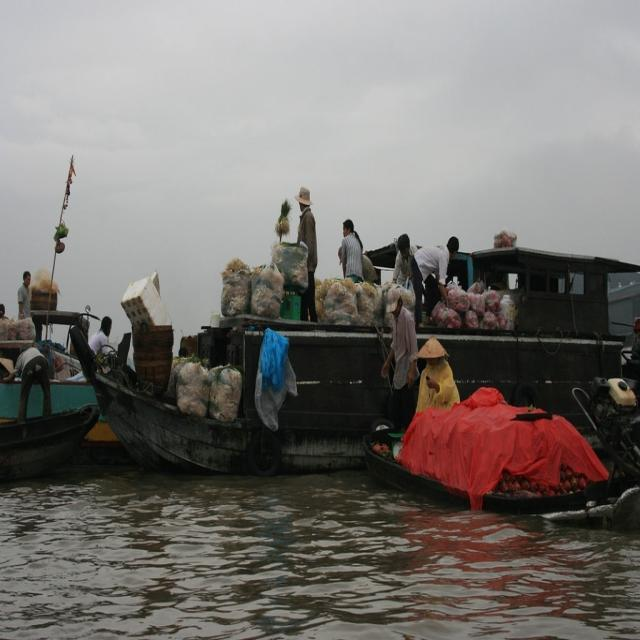boat: (362, 426, 621, 520)
